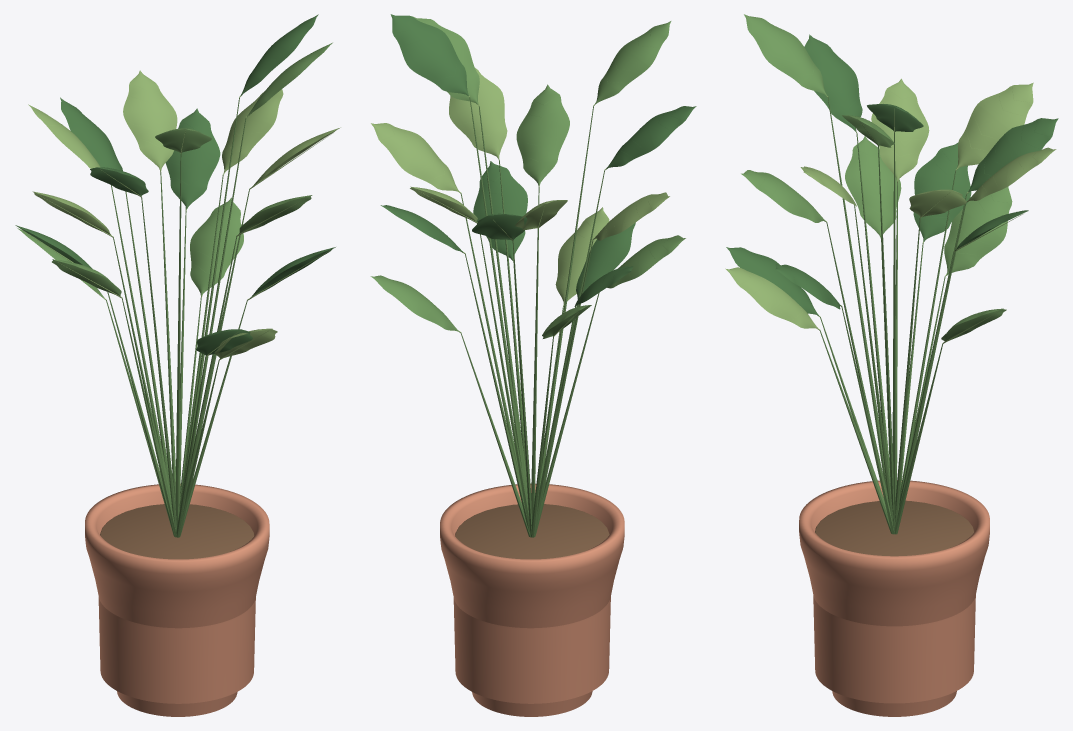
Rendered from large-plant.glb.
3 renders of one model, left to right at view 1: azimuth 30°, elevation 25°; view 2: azimuth 150°, elevation 25°; view 3: azimuth 270°, elevation 25°, orthographic.
Visible parts, largest first — view 1: catalog_surface_RealismUV; view 2: catalog_surface_RealismUV; view 3: catalog_surface_RealismUV.
Boxes of the visible parts, box(x1,y1,x2,y2) form: catalog_surface_RealismUV: box(15, 14, 340, 716); catalog_surface_RealismUV: box(370, 14, 696, 716); catalog_surface_RealismUV: box(725, 14, 1058, 716).
Bounding box in the file's own units: 0.6 × 1.3 × 0.6.
